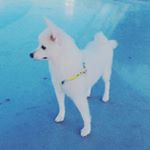puppy: (22, 13, 120, 139)
